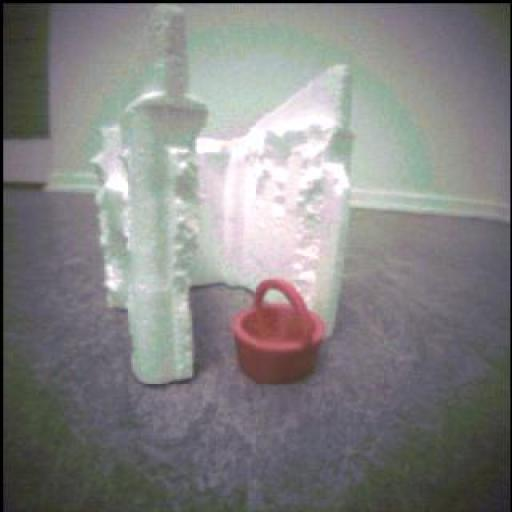Bucket: (233, 279, 326, 385)
